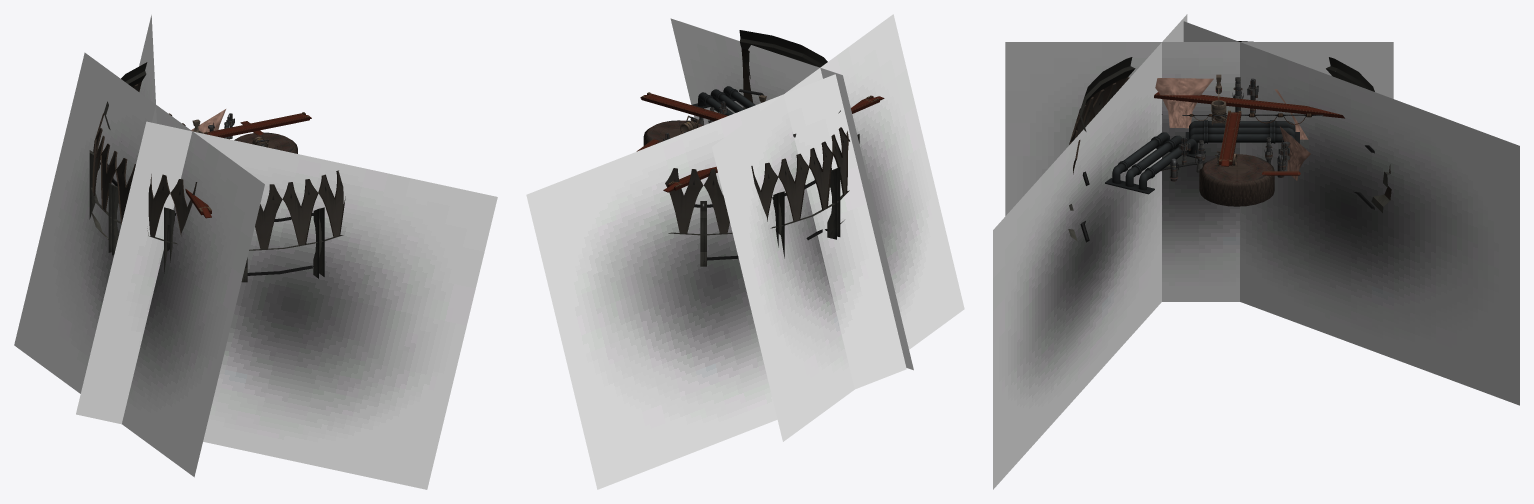
File: env_geo_droidfactory_int_01_pre.glb
3 renders of one model, left to right at view 1: azimuth 30°, elevation 25°; view 2: azimuth 150°, elevation 25°; view 3: azimuth 270°, elevation 25°, orthographic. The views are drawn at different scales.
Visible parts, largest first — view 1: ground_plane_mesh (2), ground_plane_mesh, geo_wall_04_mesh (5), geo_wall_04_mesh (6), geo_wall_04_mesh (2), geo_wall_04_mesh (3), geo_wall_04_mesh (1), geo_platform_01_mesh (1), ground_plane_mesh (1), geo_floor_01_mesh; view 2: ground_plane_mesh (1), ground_plane_mesh, ground_plane_mesh (2), geo_wall_04_mesh (4), geo_wall_04_mesh (6), geo_wall_04_mesh (1), geo_wall_04_mesh (5), geo_platform_01_mesh (1), mal_pipes_01c_mesh (3), geo_platform_01_mesh (2), geo_floor_01_mesh; view 3: ground_plane_mesh (1), ground_plane_mesh (2), ground_plane_mesh, geo_floor_01_mesh, vfx_smoke_light_back_L, geo_wall_04_mesh (3), geo_platform_01_mesh (2), mal_pipes_01c_mesh (3), mal_pipes_01c_mesh, mal_pipes_01c_mesh (2), geo_wall_04_mesh (4), geo_platform_01_mesh (1) (+2 smaller).
Boxes of the visible parts, x1,y1,x2,y2 form: ground_plane_mesh (2): (76, 121, 497, 489); ground_plane_mesh: (14, 52, 264, 477); geo_wall_04_mesh (5): (280, 170, 345, 278); geo_wall_04_mesh (6): (96, 143, 135, 255); geo_wall_04_mesh (2): (147, 174, 197, 273); geo_wall_04_mesh (3): (241, 184, 283, 282); geo_wall_04_mesh (1): (89, 101, 113, 231); geo_platform_01_mesh (1): (204, 112, 311, 137); ground_plane_mesh (1): (139, 15, 156, 123); geo_floor_01_mesh: (234, 132, 297, 153); ground_plane_mesh (1): (526, 74, 906, 489); ground_plane_mesh: (712, 14, 964, 441); ground_plane_mesh (2): (670, 18, 913, 370); geo_wall_04_mesh (4): (665, 168, 738, 266); geo_wall_04_mesh (6): (804, 127, 849, 240); geo_wall_04_mesh (1): (751, 153, 812, 258); geo_wall_04_mesh (5): (739, 30, 805, 109); geo_platform_01_mesh (1): (640, 92, 727, 121); mal_pipes_01c_mesh (3): (692, 86, 748, 112); geo_platform_01_mesh (2): (663, 95, 884, 192); geo_floor_01_mesh: (643, 120, 702, 145); ground_plane_mesh (1): (1183, 21, 1519, 405); ground_plane_mesh (2): (993, 14, 1187, 489); ground_plane_mesh: (1005, 42, 1393, 301); geo_floor_01_mesh: (1199, 154, 1274, 206); vfx_smoke_light_back_L: (1155, 78, 1213, 128); geo_wall_04_mesh (3): (1076, 59, 1125, 136); geo_platform_01_mesh (2): (1154, 92, 1344, 118); mal_pipes_01c_mesh (3): (1105, 152, 1167, 194); mal_pipes_01c_mesh: (1236, 120, 1299, 143); mal_pipes_01c_mesh (2): (1135, 132, 1205, 165); geo_wall_04_mesh (4): (1335, 59, 1391, 212); geo_platform_01_mesh (1): (1219, 110, 1241, 166).
Bounding box in the file's own units: 176 × 177 × 225.
11 materials, 11 textured.
